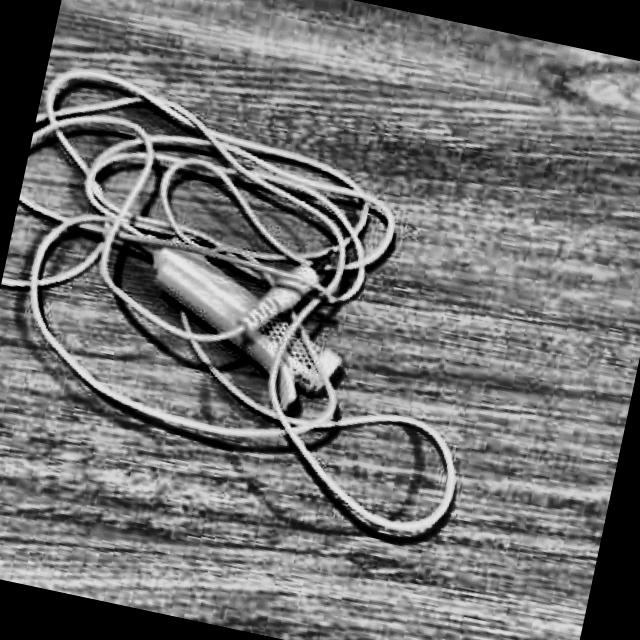Cable: (0, 59, 523, 550)
